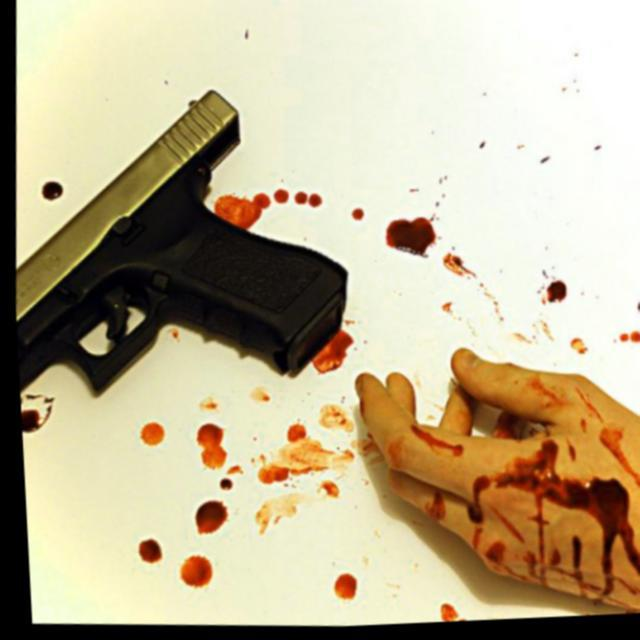weapon: (3, 60, 347, 457), (4, 72, 358, 415)
